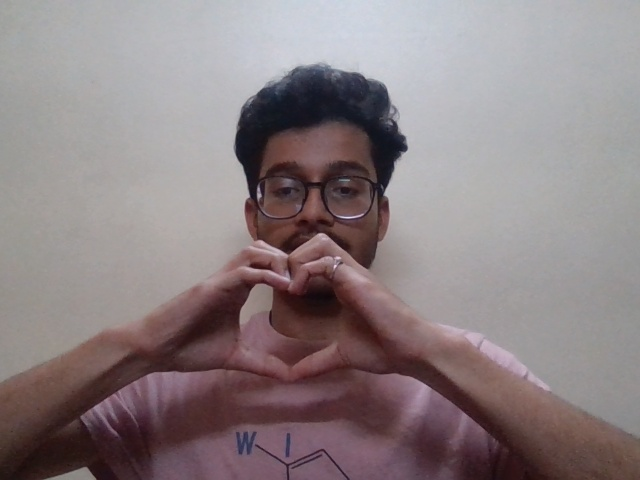silent-voice: (209, 230, 387, 394)
